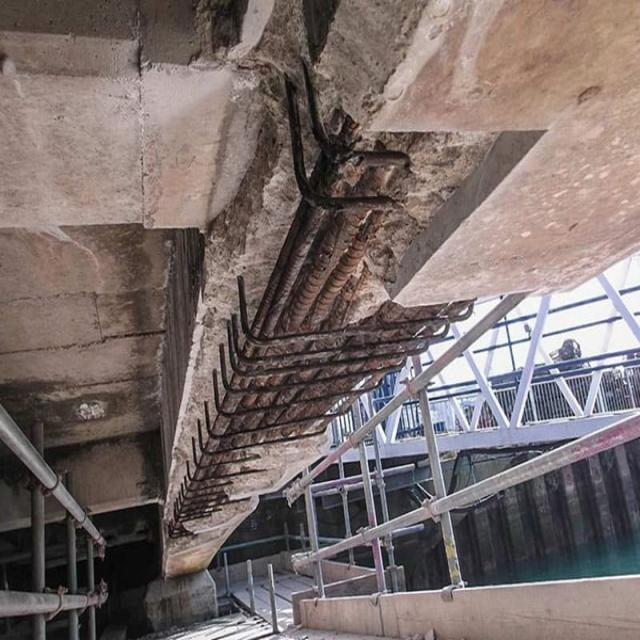Spalling: (162, 0, 505, 558)
corrosion: (169, 65, 444, 537)
